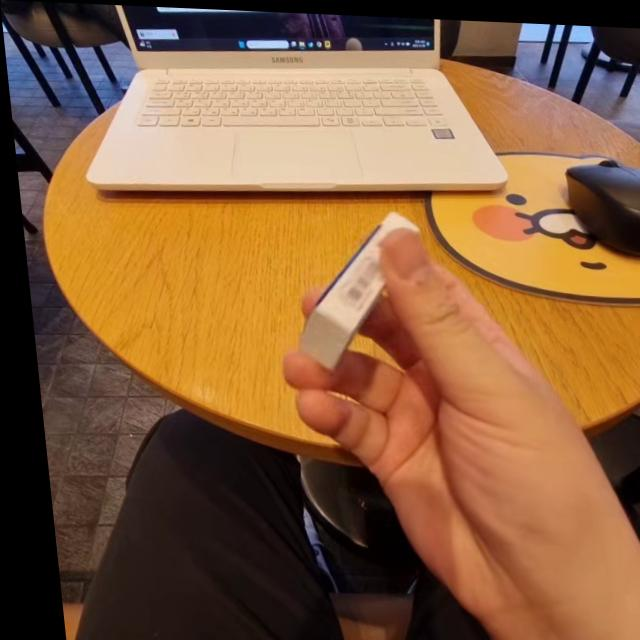grab_eraser: (262, 209, 640, 640)
mouse: (571, 149, 640, 263)
